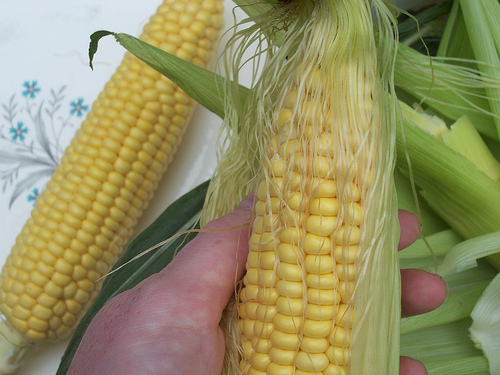corn: (1, 0, 222, 352), (220, 1, 404, 373)
